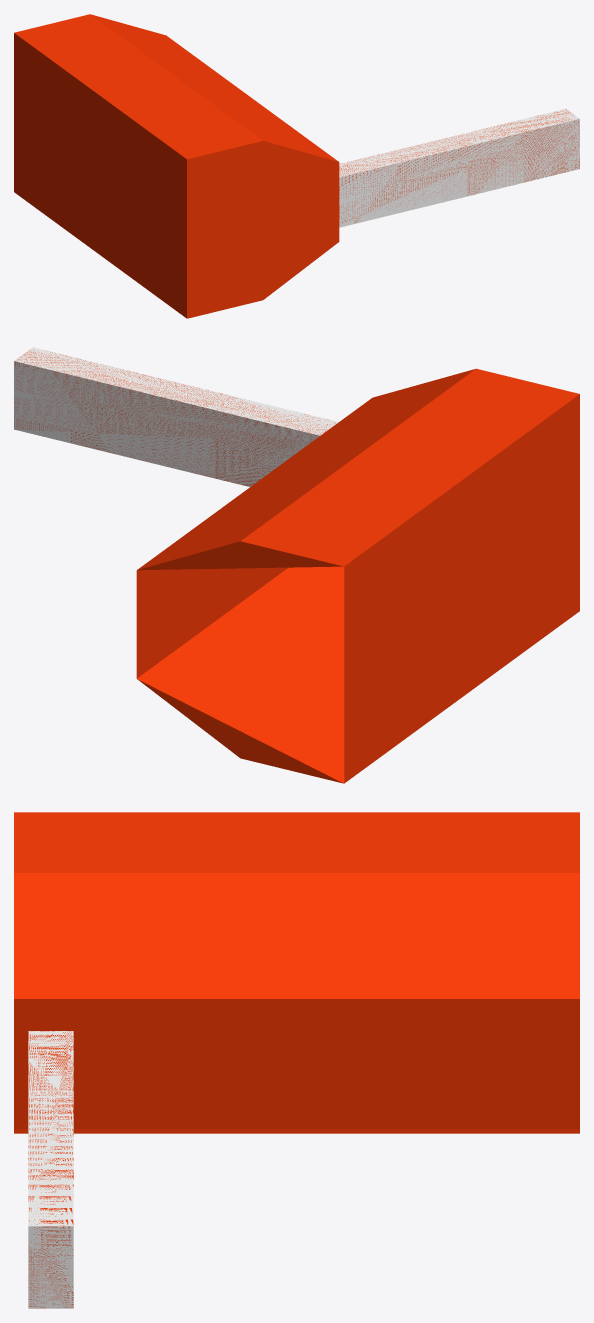
File: car2-sticking-nose.dae
3 renders of one model, top to bottom at view 1: azimuth 30°, elevation 25°; view 2: azimuth 150°, elevation 25°; view 3: azimuth 270°, elevation 25°, orthographic. The views are drawn at different scales.
Visible parts, largest first — view 1: instance_0, instance_0_001; view 2: instance_0, instance_0_001; view 3: instance_0, instance_0_001.
Part boxes in pixels (box(x1,y1,x2,y2)): instance_0: box(14, 14, 339, 318); instance_0_001: box(339, 108, 579, 227); instance_0: box(136, 368, 579, 783); instance_0_001: box(14, 347, 338, 486); instance_0: box(14, 812, 579, 1133); instance_0_001: box(28, 1031, 73, 1308).
Size of the model in its own units: 10.43 by 7.87 by 4.
